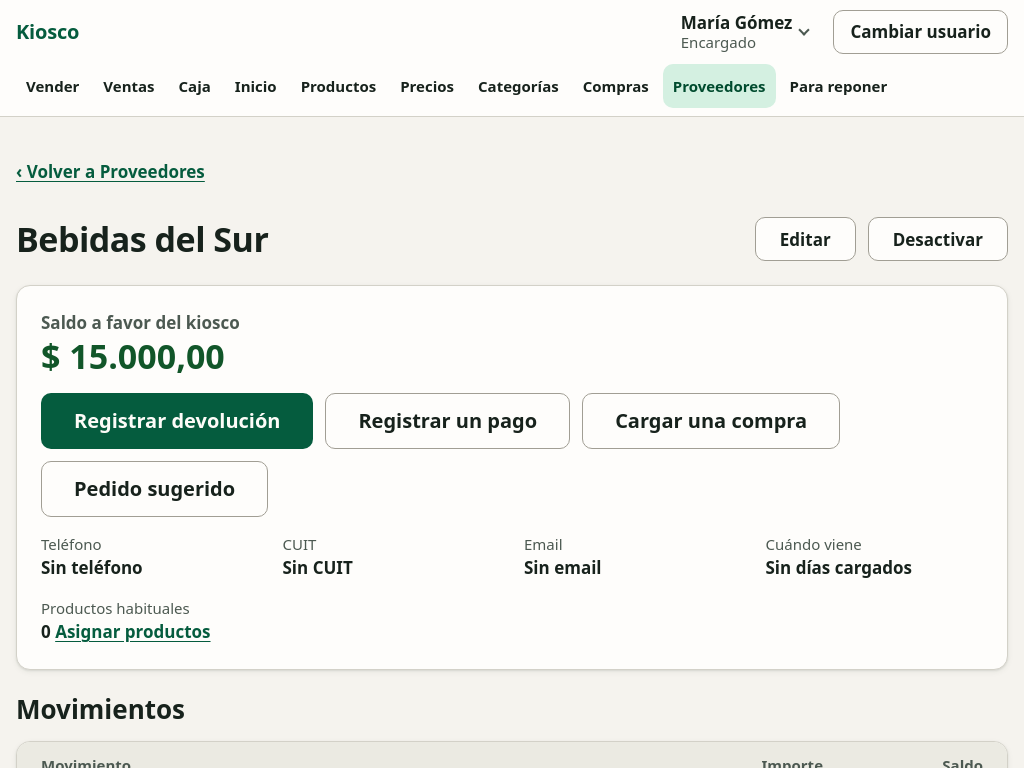
Test: Formulario de la devolución › pide elegir el origen antes de mandar nada
The width and height of the screenshot is (1024, 768).
What coordinates should you click on to do the following:
click the button "Registrar devolución"
I would click on:
 (177, 421)
Its box is [41,393,313,449].
(page scrolled)
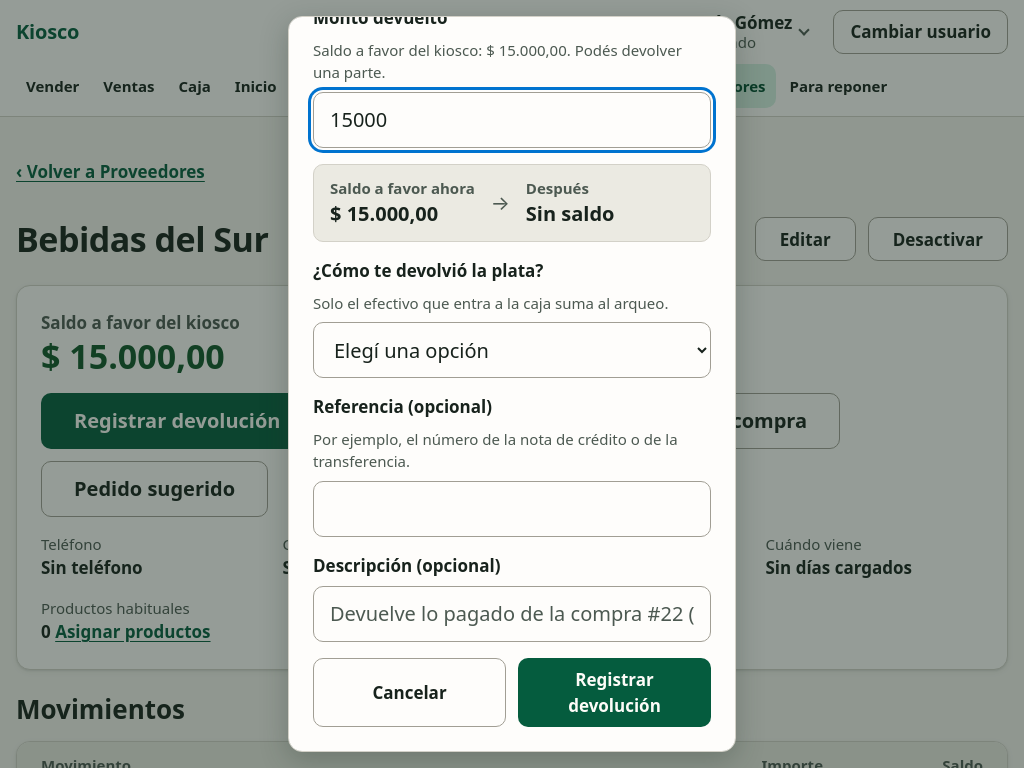
What coordinates should you click on to do the following:
click the button "Registrar devolución"
I would click on:
 (614, 692)
Its box is [518,658,711,727].
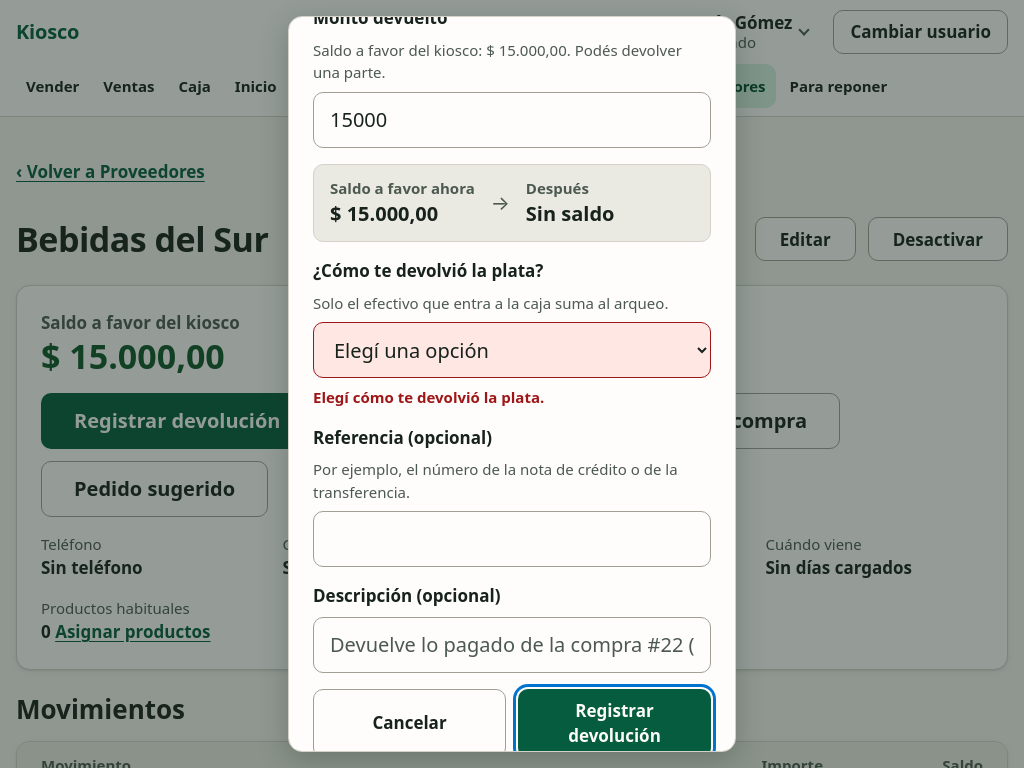
Result: the text "Elegí cómo te devolvió la plata." is shown at [313,387,544,407]
